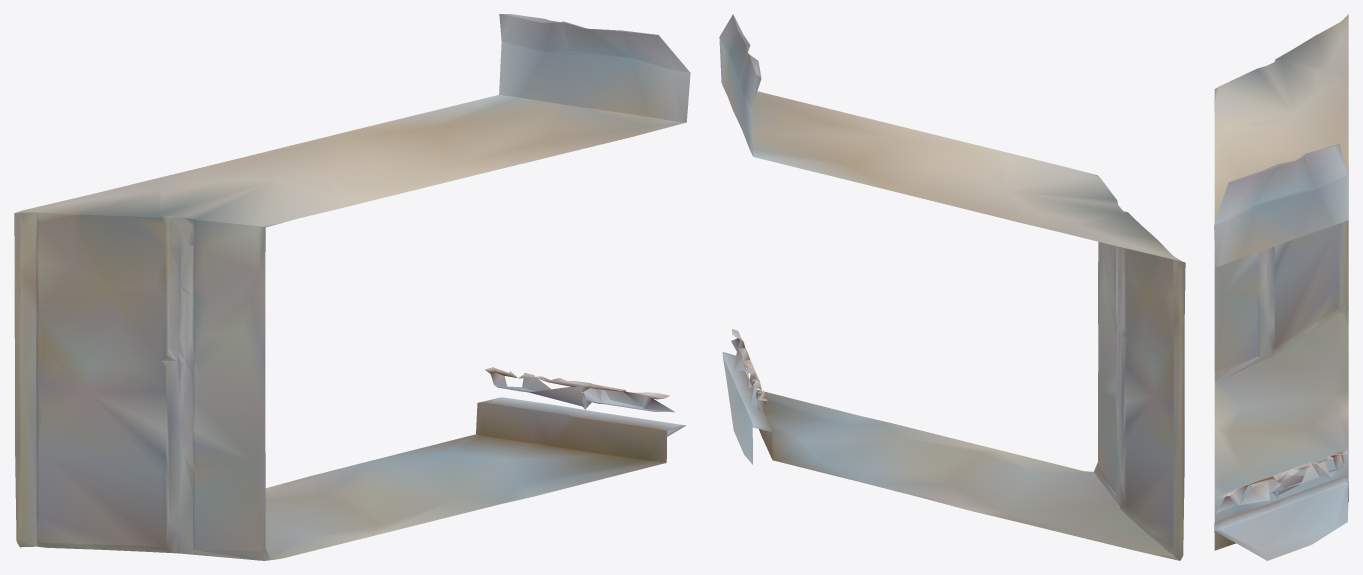
3 views of the same model, side by side, from view 1: azimuth 30°, elevation 25°; view 2: azimuth 150°, elevation 25°; view 3: azimuth 270°, elevation 25° (orthographic). The views are drawn at different scales.
Size of the model in its own units: 9 by 6.38 by 2.01.
